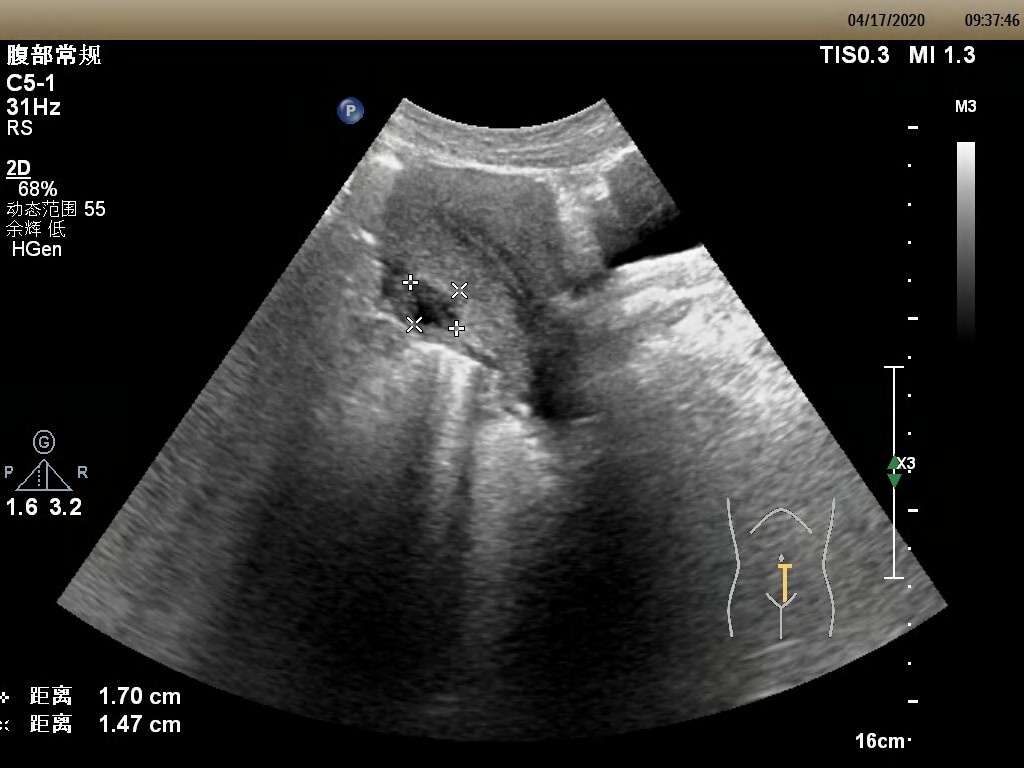肌瘤: (411, 283, 462, 331)
